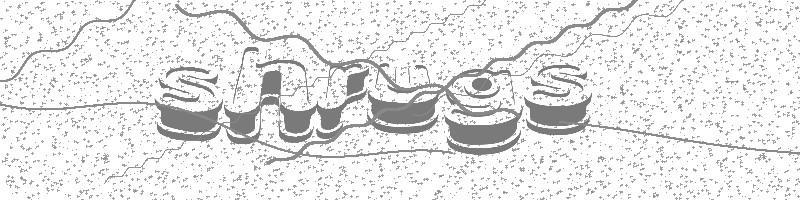g: (439, 66, 524, 156)
h: (230, 42, 317, 156)
r: (320, 55, 371, 143)
s: (149, 56, 227, 147), (524, 61, 595, 134)
u: (371, 60, 441, 139)
